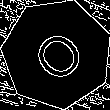O_SE: (23, 20, 90, 87)
